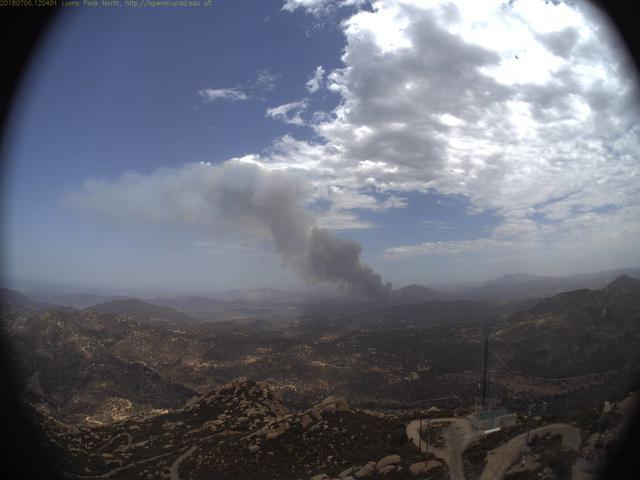smoke: (100, 158, 416, 316)
